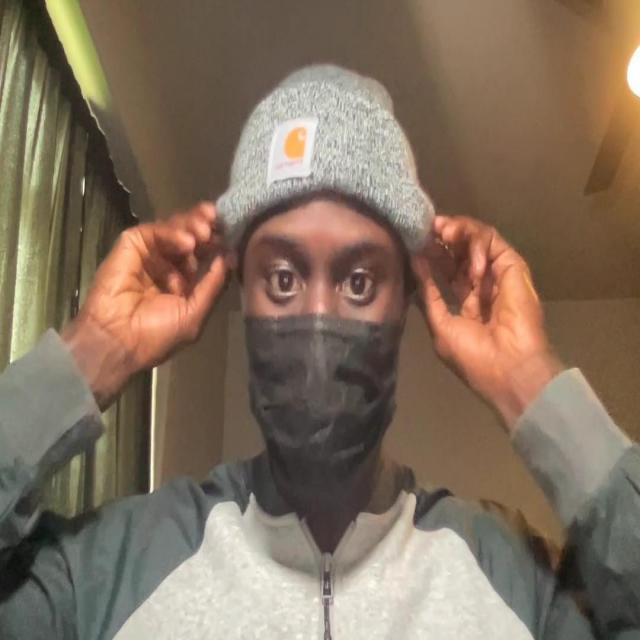face: (235, 201, 412, 491)
